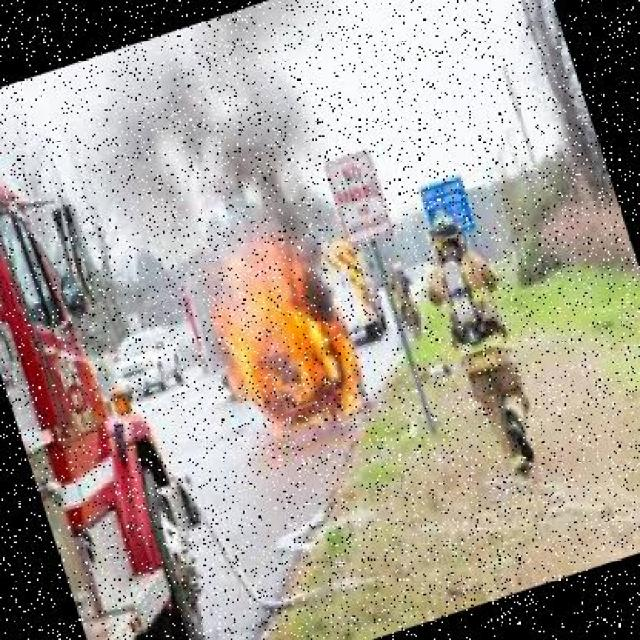fire: (174, 202, 403, 476)
